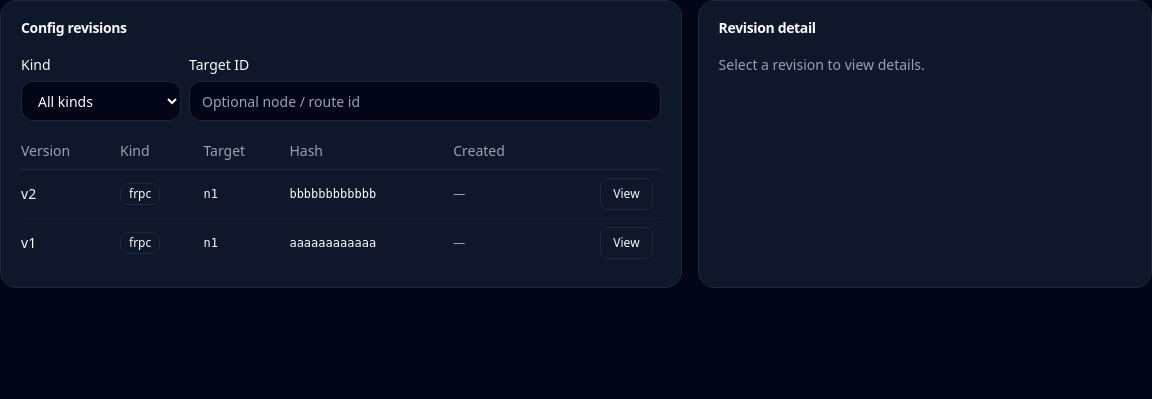
Test case: ConfigRevisionHistory › Rollback button is disabled when revision IS latest for (kind, targetId)
# Click the first row (rv2 - the latest).
Click the 1st button "View" at (626, 194), box top-left (600, 178), bottom-right (653, 210)
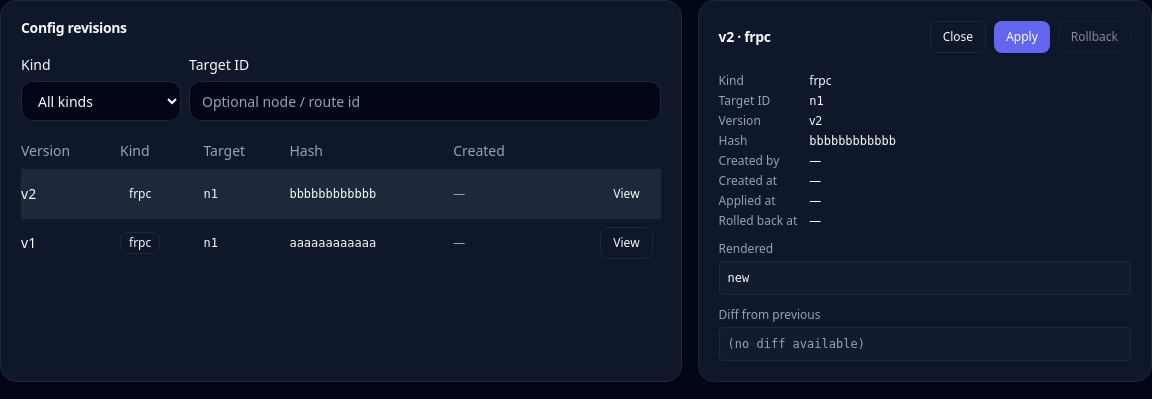
Now the button "Rollback" is disabled, box top-left (1058, 21), bottom-right (1131, 53)
